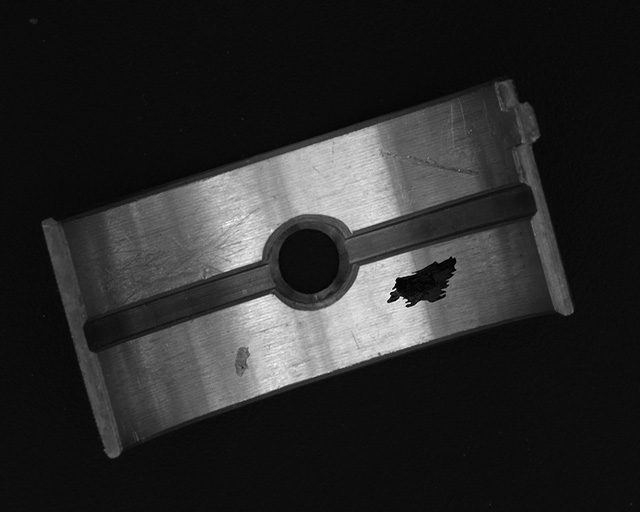blot: (386, 254, 457, 309)
bruise: (234, 346, 251, 377)
gap: (84, 259, 276, 352), (343, 184, 536, 266)
hole: (263, 218, 352, 306)
nick: (379, 148, 480, 177)
scratch: (84, 207, 259, 310)
